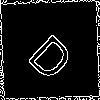D: (25, 25, 83, 84)
